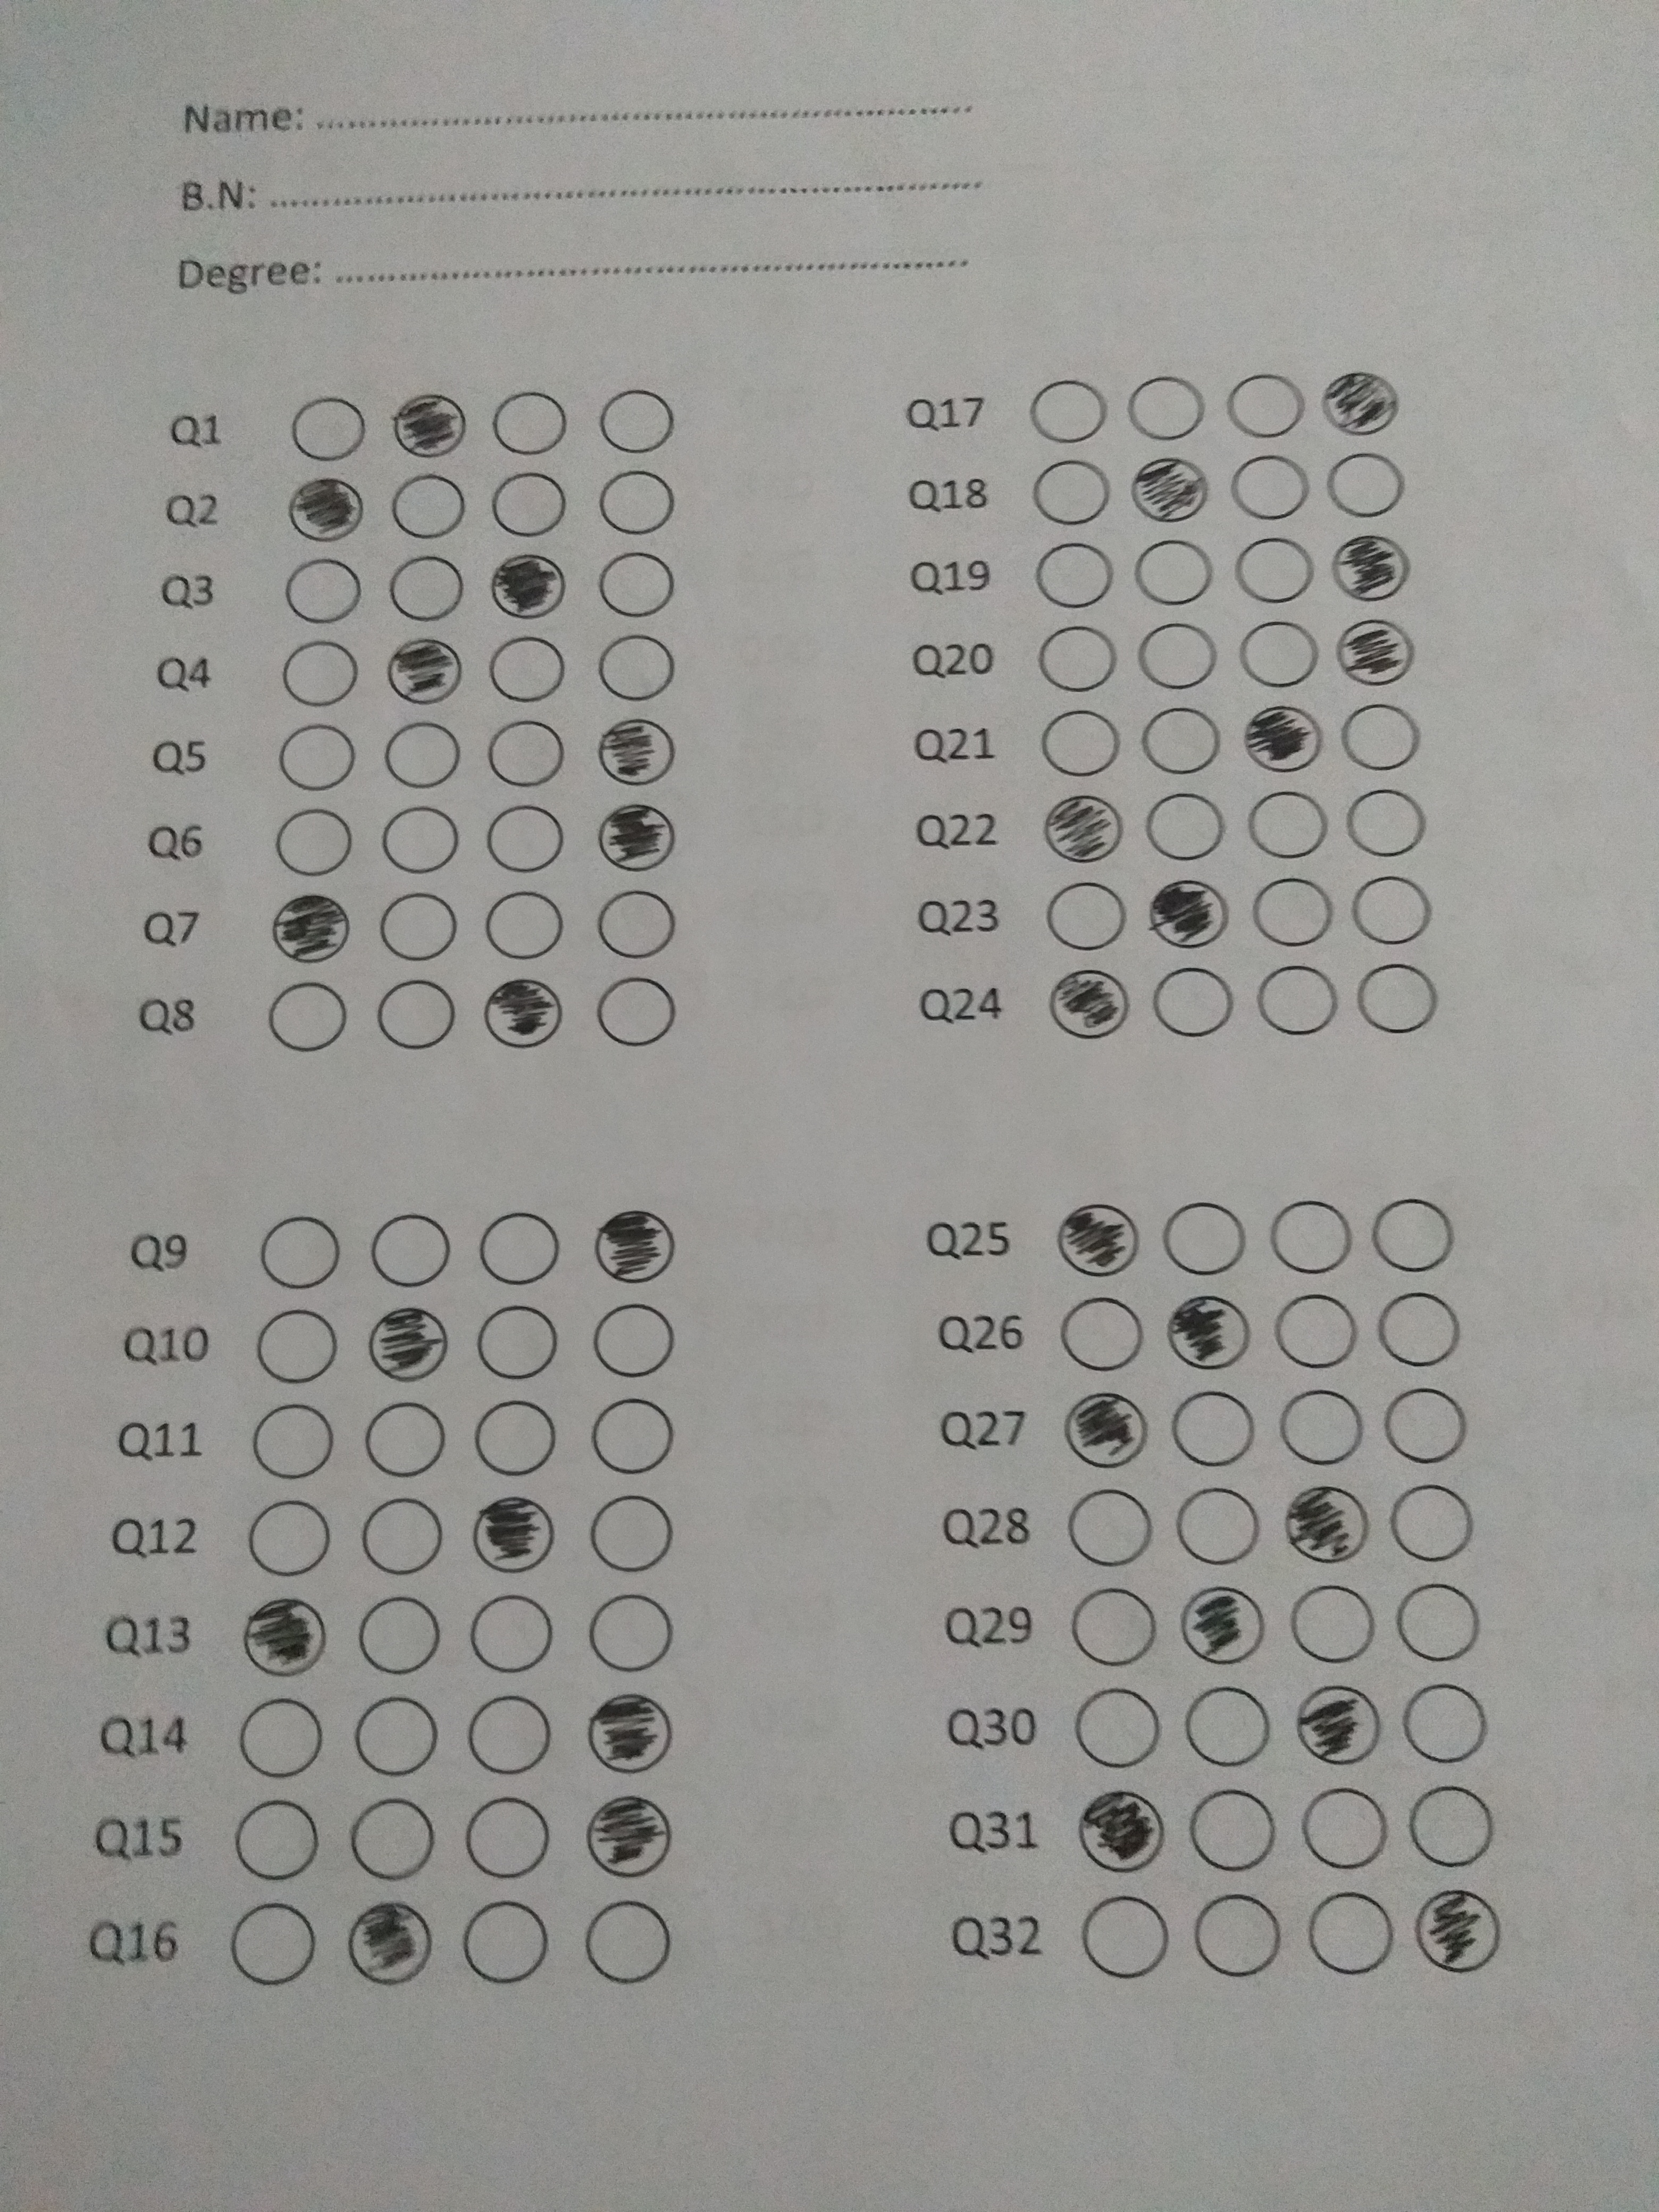not-c: (1190, 1892, 1284, 1982), (1303, 1888, 1398, 1979), (457, 1898, 551, 1989), (580, 1897, 674, 1987), (230, 1796, 324, 1886), (343, 1794, 437, 1885), (234, 1696, 328, 1787), (350, 1691, 444, 1782), (464, 1691, 558, 1782), (1403, 1782, 1497, 1872), (1297, 1782, 1391, 1872), (1187, 1785, 1281, 1876), (1396, 1676, 1490, 1766), (1182, 1683, 1276, 1773), (1070, 1683, 1164, 1773), (1392, 1580, 1486, 1670), (1387, 1480, 1481, 1571), (1284, 1580, 1378, 1670), (1065, 1581, 1159, 1672), (1065, 1482, 1159, 1573), (1079, 1893, 1173, 1982), (225, 1898, 319, 1987), (462, 1792, 556, 1881), (1255, 960, 1345, 1042), (1148, 961, 1239, 1043), (1241, 782, 1331, 864), (1140, 786, 1230, 867), (1331, 697, 1422, 779), (1236, 611, 1326, 693), (586, 1494, 676, 1576), (1173, 1484, 1263, 1566), (1373, 1289, 1464, 1371), (1368, 1193, 1459, 1275), (1161, 1198, 1251, 1280), (244, 1496, 335, 1578), (249, 1400, 340, 1482), (1352, 958, 1443, 1040), (586, 1395, 674, 1477), (1347, 869, 1436, 951), (1246, 867, 1335, 949), (1042, 873, 1131, 954), (1342, 780, 1431, 862), (1035, 702, 1124, 784), (1134, 698, 1223, 780), (1133, 615, 1222, 697), (1232, 528, 1321, 610), (1032, 618, 1121, 700), (472, 1395, 561, 1477), (589, 1301, 678, 1383), (471, 1299, 559, 1381), (1380, 1383, 1469, 1465), (1279, 1385, 1368, 1467), (1272, 1289, 1361, 1371), (1168, 1385, 1256, 1467), (1267, 1197, 1356, 1278), (1056, 1291, 1145, 1372), (354, 1595, 443, 1677), (469, 1592, 558, 1674), (589, 1592, 678, 1674), (361, 1494, 450, 1576), (361, 1399, 450, 1480), (249, 1305, 338, 1386), (254, 1211, 343, 1292), (366, 1209, 455, 1291), (476, 1209, 565, 1291), (1023, 373, 1114, 449), (383, 549, 474, 625), (284, 387, 375, 463), (1028, 449, 1117, 526), (592, 627, 681, 704), (382, 467, 471, 543), (591, 381, 680, 458), (1127, 535, 1218, 610), (477, 888, 568, 963), (267, 806, 357, 881), (481, 465, 572, 540), (1122, 369, 1211, 444), (1033, 536, 1122, 611), (1321, 448, 1410, 523), (1223, 446, 1312, 521), (1223, 366, 1312, 441), (265, 979, 354, 1054), (371, 975, 460, 1050), (591, 974, 680, 1049), (589, 887, 678, 961), (373, 892, 462, 967), (479, 803, 568, 878), (376, 805, 465, 880), (272, 721, 361, 796), (378, 718, 467, 792), (483, 716, 572, 791), (479, 632, 568, 707), (275, 636, 364, 711), (277, 554, 366, 629), (589, 547, 678, 622), (587, 465, 676, 540), (484, 387, 573, 462)
taken-c: (1406, 1886, 1506, 1975), (1277, 1482, 1373, 1568), (1070, 1787, 1166, 1872), (587, 1205, 685, 1289), (355, 1303, 453, 1386), (1042, 1198, 1140, 1282), (1164, 1289, 1262, 1372), (467, 1491, 565, 1575), (232, 1595, 329, 1679), (580, 1794, 678, 1878), (340, 1900, 437, 1984), (1053, 1386, 1148, 1470), (580, 1689, 676, 1773), (1286, 1681, 1382, 1764), (1171, 1583, 1267, 1667), (476, 972, 566, 1055), (591, 796, 681, 880), (1127, 446, 1218, 529), (383, 629, 472, 712), (1147, 873, 1236, 956), (1317, 359, 1406, 442), (591, 711, 681, 792), (484, 545, 575, 627), (267, 890, 355, 972), (1239, 698, 1328, 780), (1331, 610, 1420, 691), (1039, 787, 1127, 869), (1323, 526, 1412, 608), (284, 470, 373, 552), (387, 383, 479, 460), (1042, 967, 1136, 1042)
